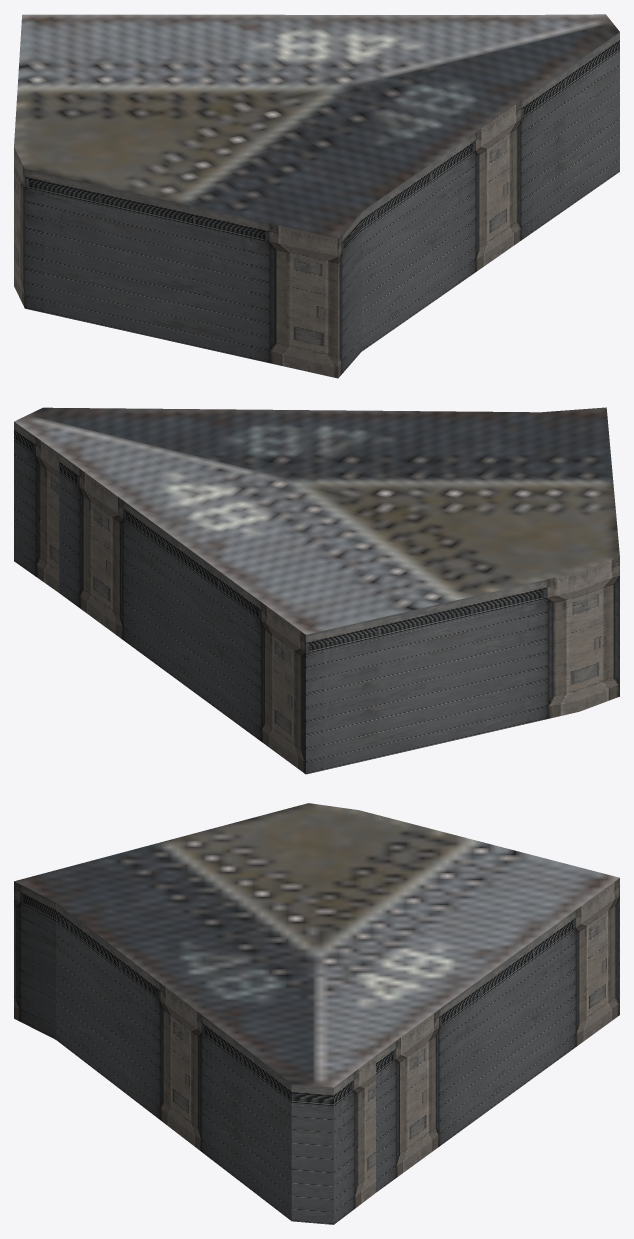
The model's file is hangar_medium_48.glb.
3 views of the same model, one above another, from view 1: azimuth 30°, elevation 25°; view 2: azimuth 150°, elevation 25°; view 3: azimuth 270°, elevation 25° (orthographic).
Visible parts, largest first — view 1: buildings/saxarba/hangar_medium/hangar_medium_48; view 2: buildings/saxarba/hangar_medium/hangar_medium_48; view 3: buildings/saxarba/hangar_medium/hangar_medium_48.
Boxes of the visible parts, <box> form: buildings/saxarba/hangar_medium/hangar_medium_48: <box>14,14,619,378</box>; buildings/saxarba/hangar_medium/hangar_medium_48: <box>14,407,619,774</box>; buildings/saxarba/hangar_medium/hangar_medium_48: <box>14,803,619,1224</box>.
Size of the model in its own units: 80 by 18 by 72.
